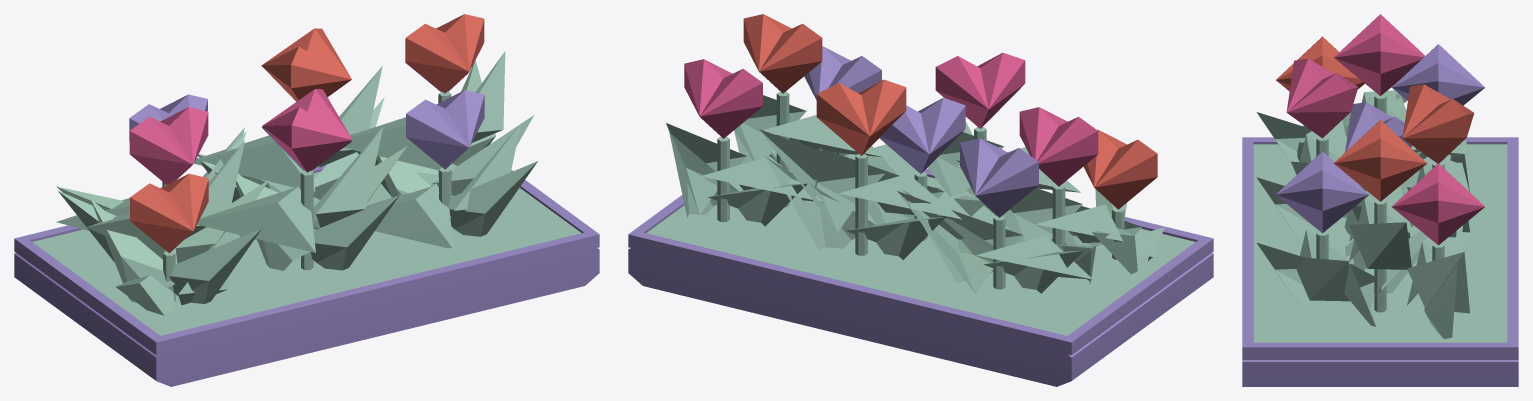
File: heart-bed.glb
The picture shows the model from 3 angles, left to right: view 1: azimuth 30°, elevation 25°; view 2: azimuth 150°, elevation 25°; view 3: azimuth 270°, elevation 25°; orthographic projection. The views are drawn at different scales.
Visible parts, largest first — view 1: root_mesh, pulse1_mesh, pulse0_mesh; view 2: root_mesh, pulse0_mesh, pulse1_mesh; view 3: root_mesh, pulse1_mesh, pulse0_mesh.
Boxes of the visible parts, x1,y1,x2,y2 form: root_mesh: (14, 51, 599, 386); pulse1_mesh: (129, 14, 484, 184); pulse0_mesh: (129, 39, 484, 253); root_mesh: (628, 91, 1213, 386); pulse0_mesh: (684, 46, 1157, 217); pulse1_mesh: (743, 14, 1098, 186); root_mesh: (1242, 90, 1518, 386); pulse1_mesh: (1286, 14, 1474, 201); pulse0_mesh: (1276, 36, 1484, 245).
Bounding box in the file's own units: 1.8 × 0.9 × 1.
